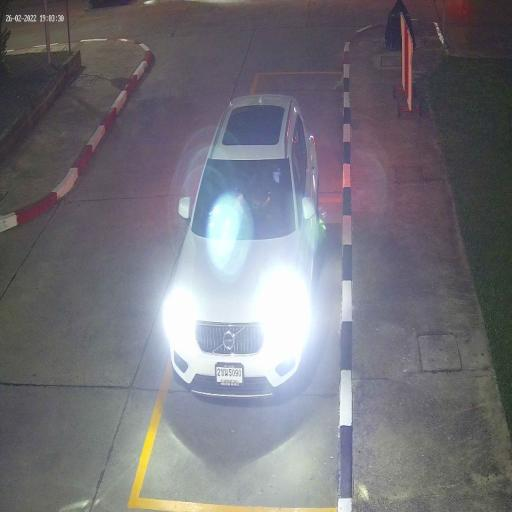car: (162, 89, 320, 403)
